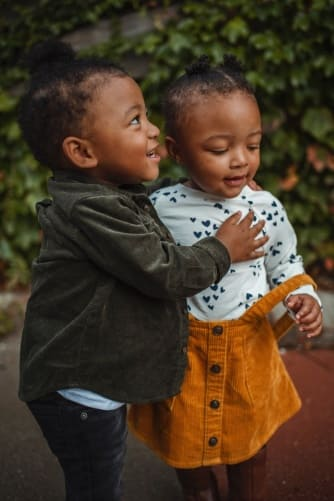person: (158, 74, 316, 497), (27, 66, 179, 501)
